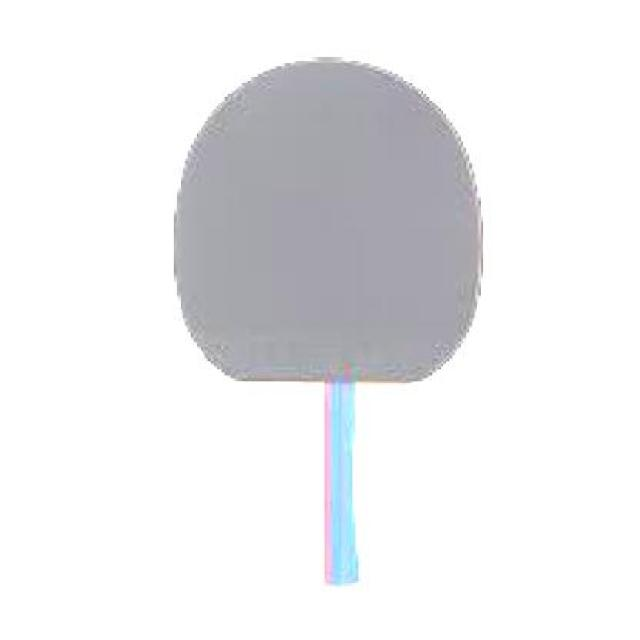table_tennis_racket: (163, 54, 489, 408)
